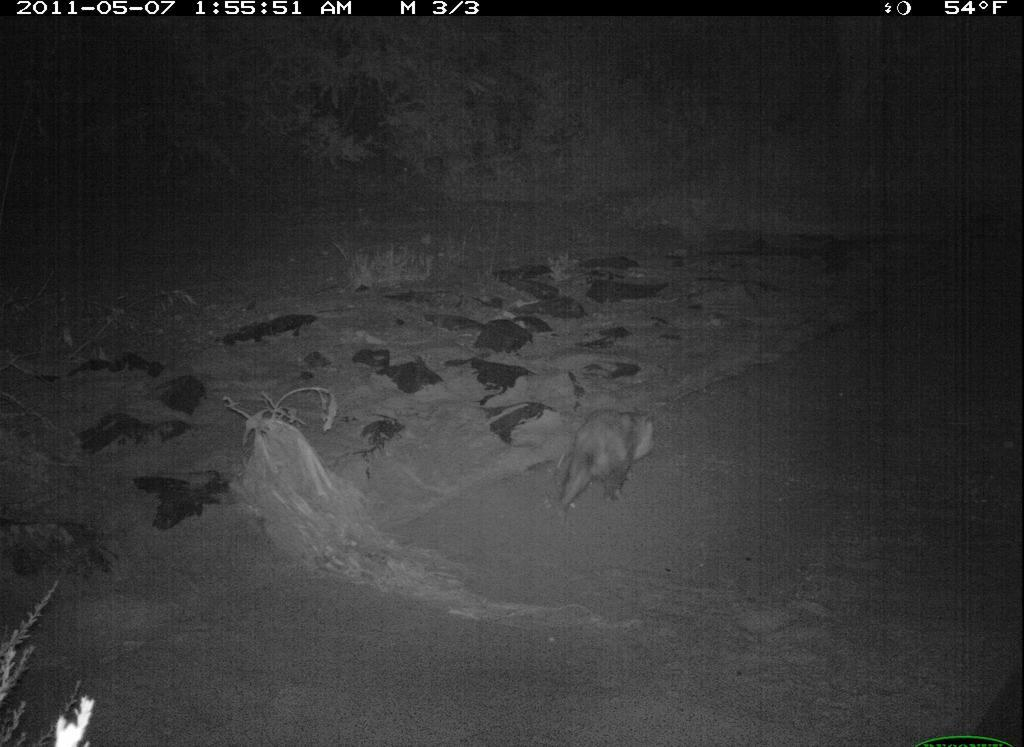opossum: (555, 397, 661, 523)
